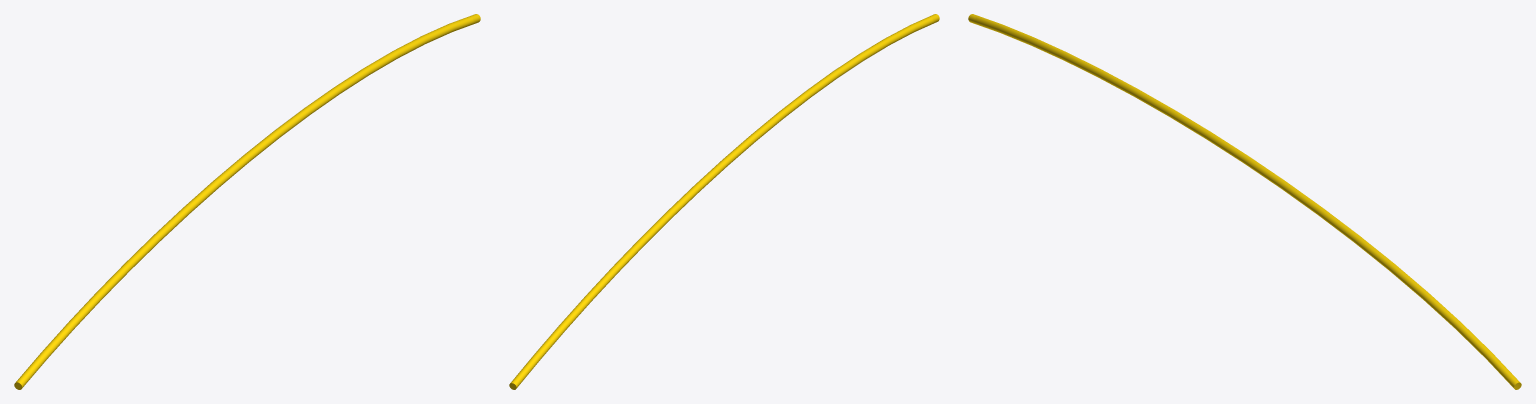
File: Event_420094457_track_13.fbx
3 renders of one model, left to right at view 1: azimuth 30°, elevation 25°; view 2: azimuth 210°, elevation 25°; view 3: azimuth 270°, elevation 25°, orthographic. The views are drawn at different scales.
Visible parts, largest first — view 1: Model; view 2: Model; view 3: Model.
Part boxes in pixels (box(x1,y1,x2,y2)): Model: box(14, 14, 480, 389); Model: box(509, 14, 939, 389); Model: box(968, 14, 1521, 389).
Bounding box in the file's own units: 3.81 × 0.293 × 2.51.
